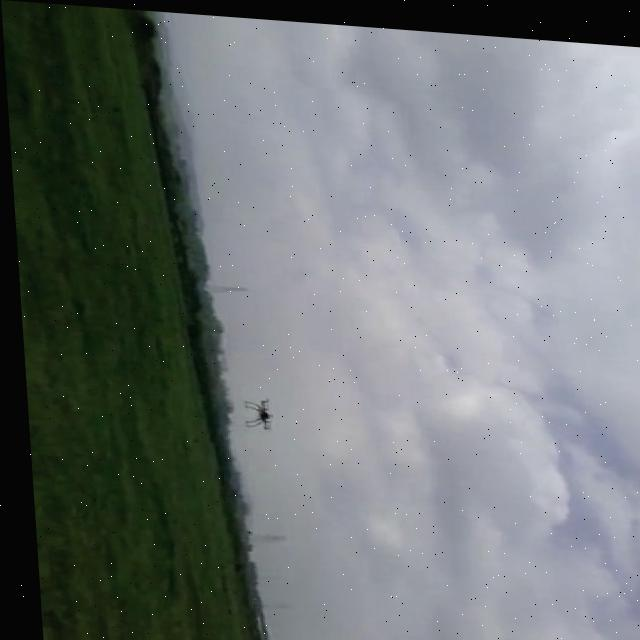drone: (235, 391, 275, 431)
